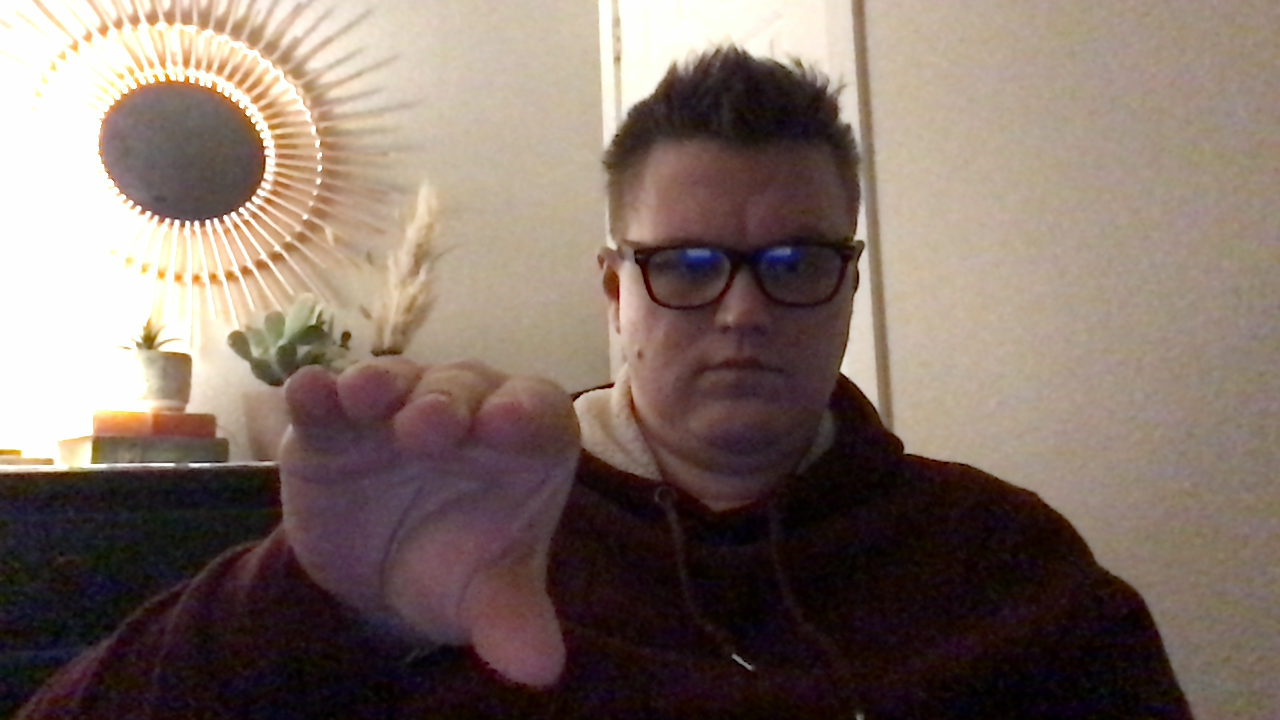no: (264, 351, 585, 687)
